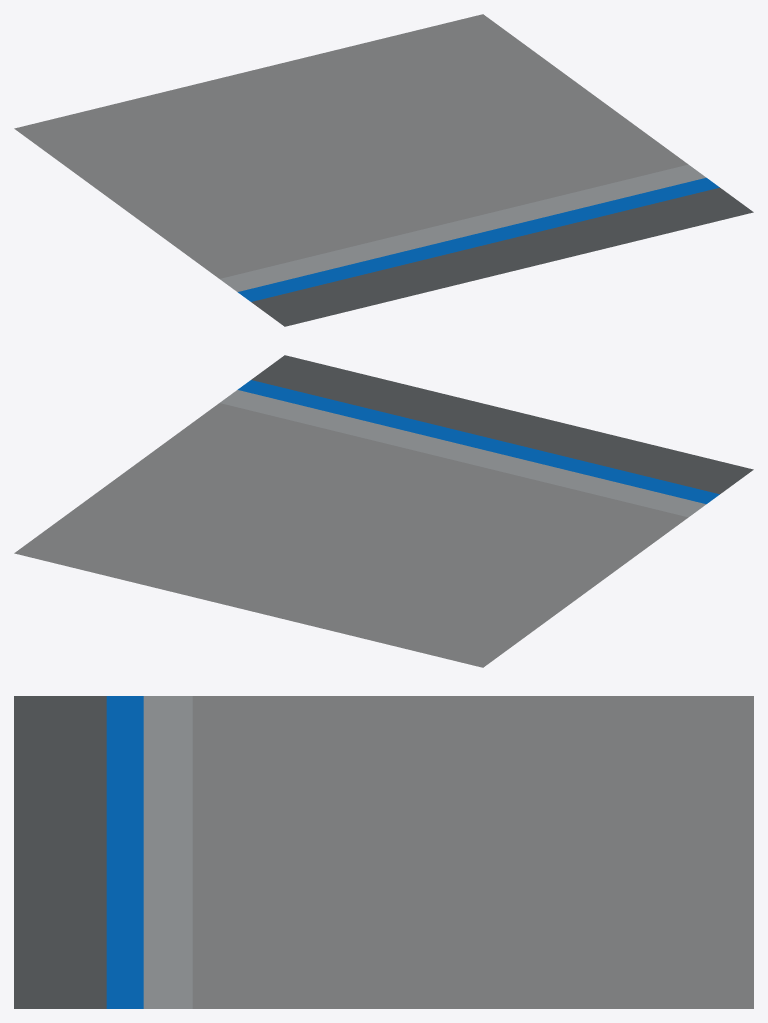
File: Ceiling_type_B_046.fbx
The picture shows the model from 3 angles, top to bottom: view 1: azimuth 30°, elevation 25°; view 2: azimuth 150°, elevation 25°; view 3: azimuth 270°, elevation 25°; orthographic projection. The views are drawn at different scales.
Parts seen in each view (by area): view 1: Ceiling_type_B_046; view 2: Ceiling_type_B_046; view 3: Ceiling_type_B_046.
Boxes of the visible parts, <box> form: Ceiling_type_B_046: <box>14,14,753,326</box>; Ceiling_type_B_046: <box>14,355,753,667</box>; Ceiling_type_B_046: <box>14,696,753,1008</box>.
Size of the model in its own units: 400 by 400 by 3.5.
